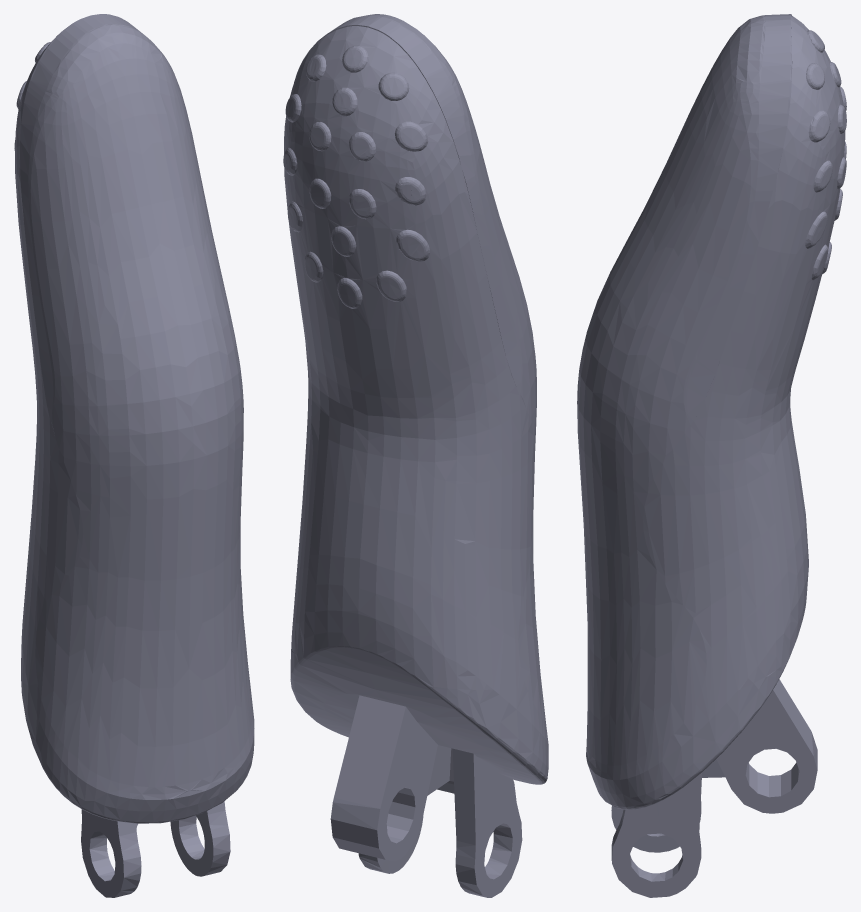
File: hand2_link_4_2_visuals.obj
The picture shows the model from 3 angles, left to right: view 1: azimuth 30°, elevation 25°; view 2: azimuth 150°, elevation 25°; view 3: azimuth 270°, elevation 25°; orthographic projection. The views are drawn at different scales.
Size of the model in its own units: 0.0136 by 0.0522 by 0.015.
